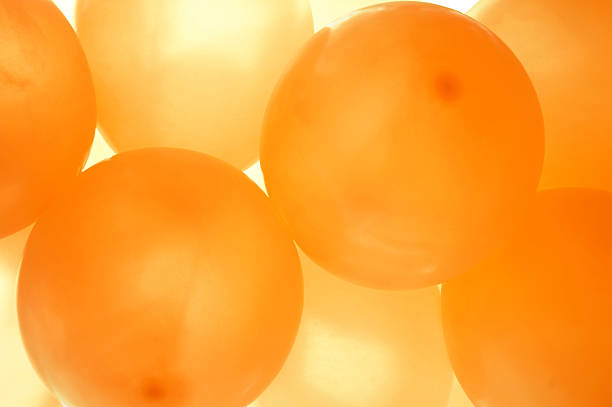Balloon: (261, 1, 544, 290), (17, 148, 304, 407), (76, 1, 313, 160), (442, 189, 612, 407)
